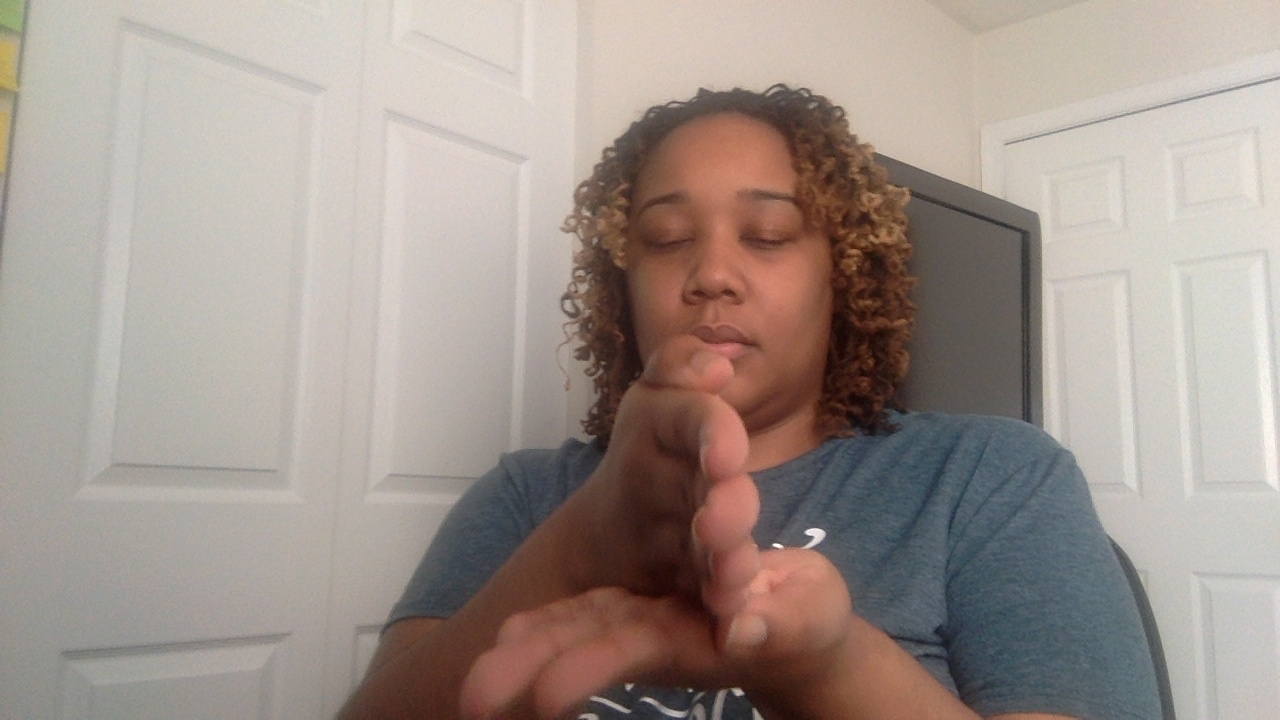stop: (459, 336, 859, 711)
